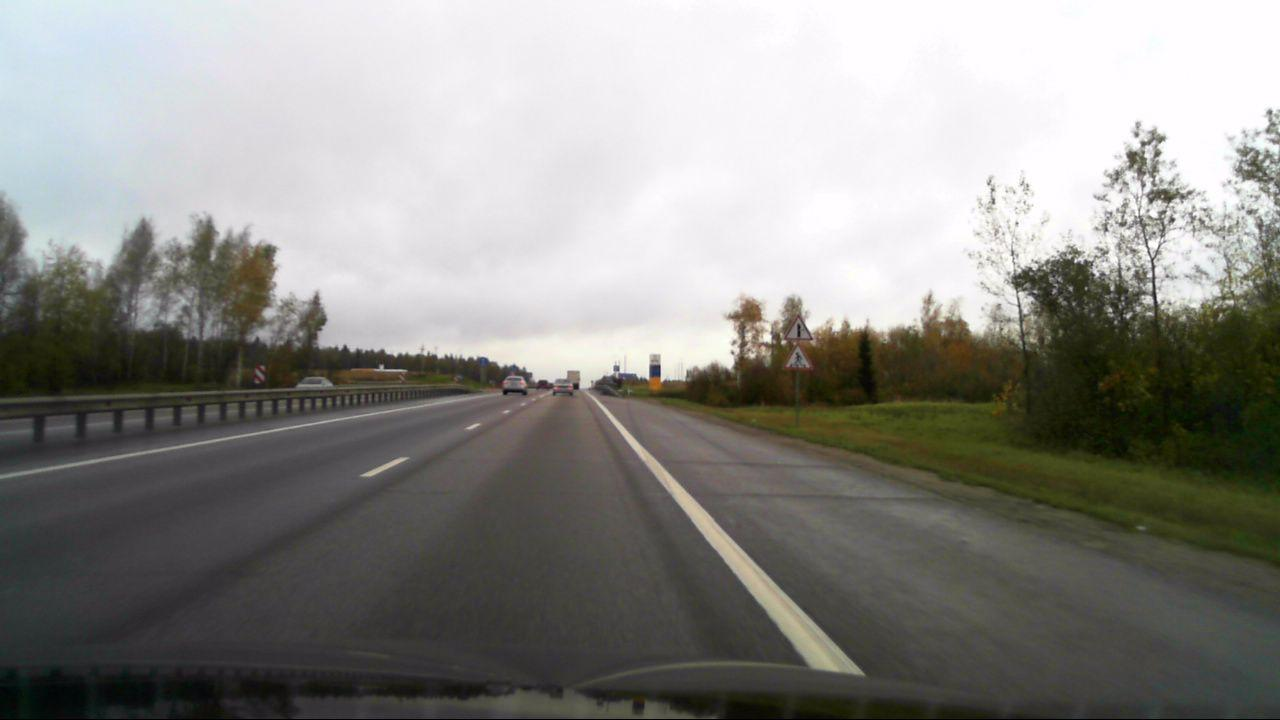1_22: (782, 343, 813, 371)
2_3_2: (782, 311, 813, 340)
